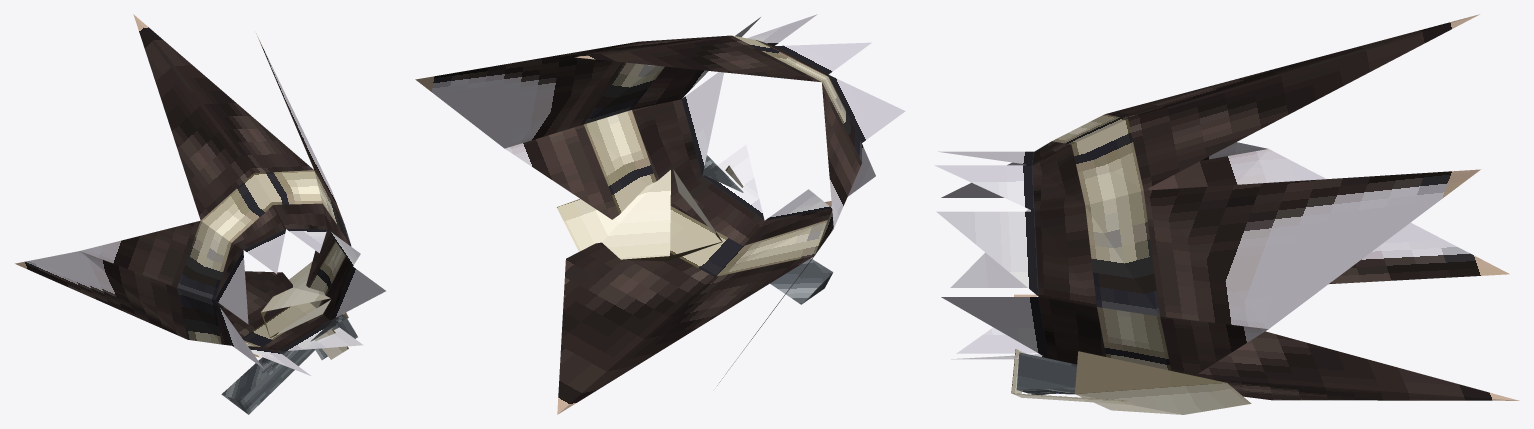
The model's file is character_n6.obj.
The picture shows the model from 3 angles, left to right: view 1: azimuth 30°, elevation 25°; view 2: azimuth 150°, elevation 25°; view 3: azimuth 270°, elevation 25°; orthographic projection. The views are drawn at different scales.
Bounding box in the file's own units: 33.11 × 35.14 × 45.48.
2 materials, 2 textured.
